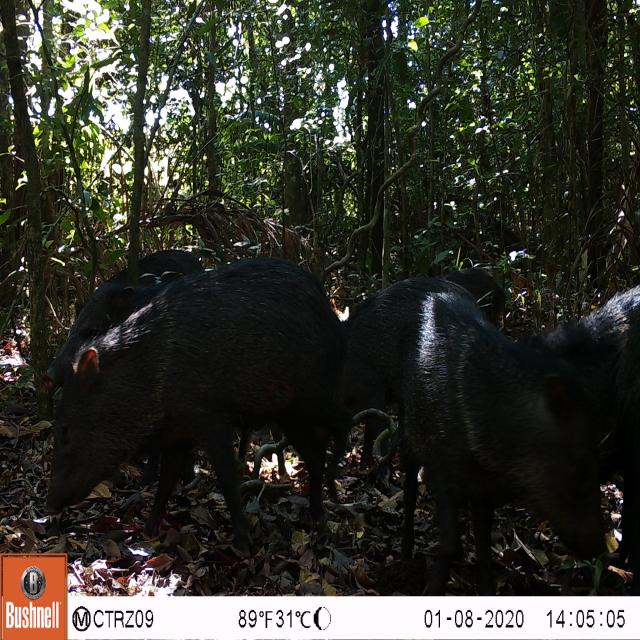Collared Peccary: (21, 234, 352, 557), (321, 262, 640, 591)
